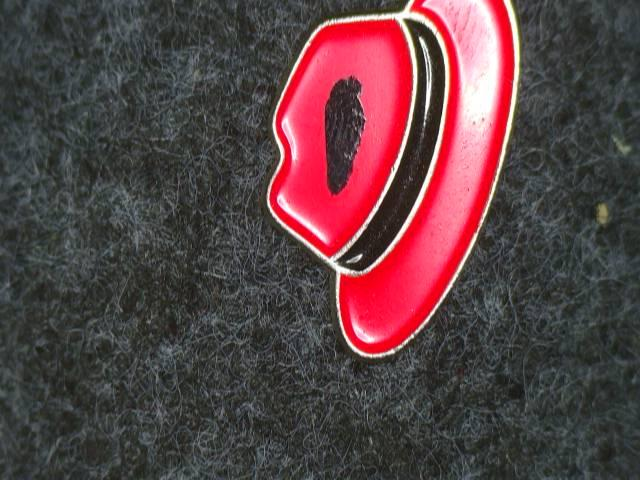Red-Hat: (224, 0, 553, 412)
Scratch: (308, 59, 385, 201)
